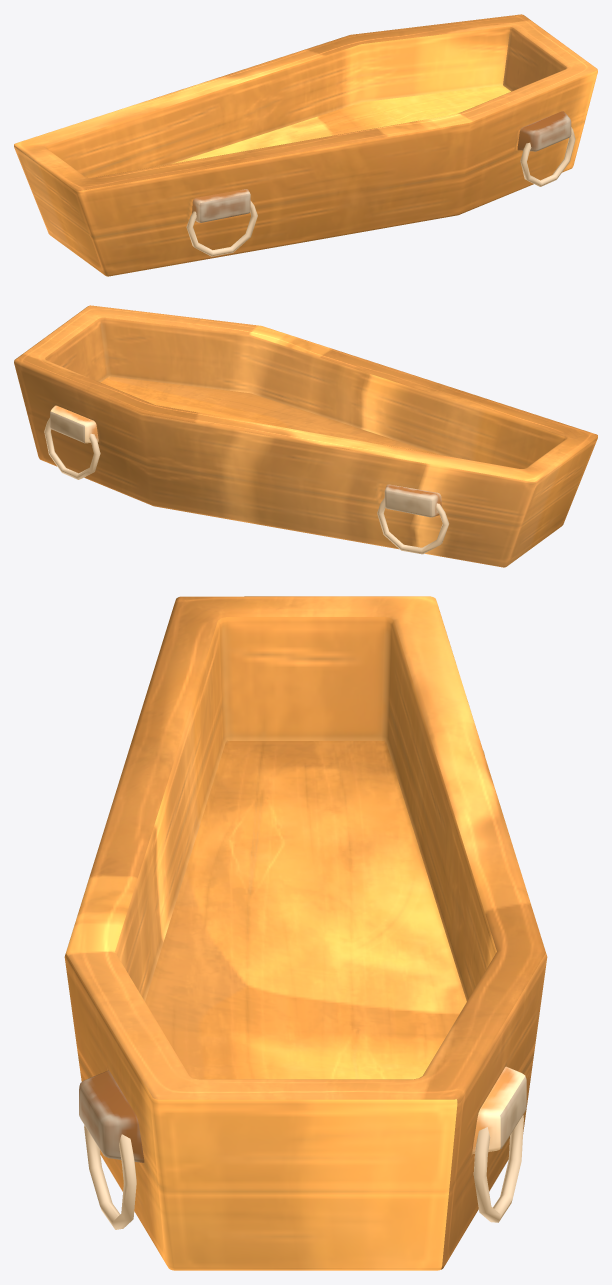
Rendered from SM_Coffin.fbx.
3 views of the same model, one above another, from view 1: azimuth 30°, elevation 25°; view 2: azimuth 150°, elevation 25°; view 3: azimuth 270°, elevation 25° (orthographic). The views are drawn at different scales.
Parts seen in each view (by area): view 1: SM_Coffin_LOD0; view 2: SM_Coffin_LOD0; view 3: SM_Coffin_LOD0.
Part boxes in pixels (left/top/right/bottom): SM_Coffin_LOD0: left=14, top=14, right=597, bottom=276; SM_Coffin_LOD0: left=14, top=305, right=597, bottom=567; SM_Coffin_LOD0: left=64, top=596, right=547, bottom=1270.
Size of the model in its own units: 189 by 76.6 by 34.16.
